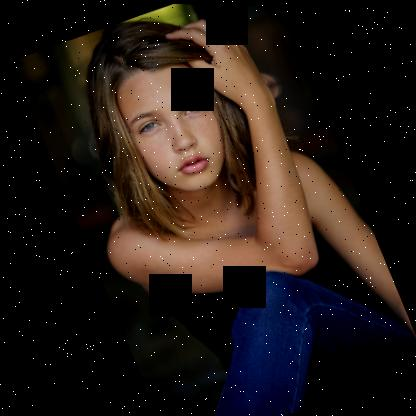Female: (104, 42, 243, 204)
